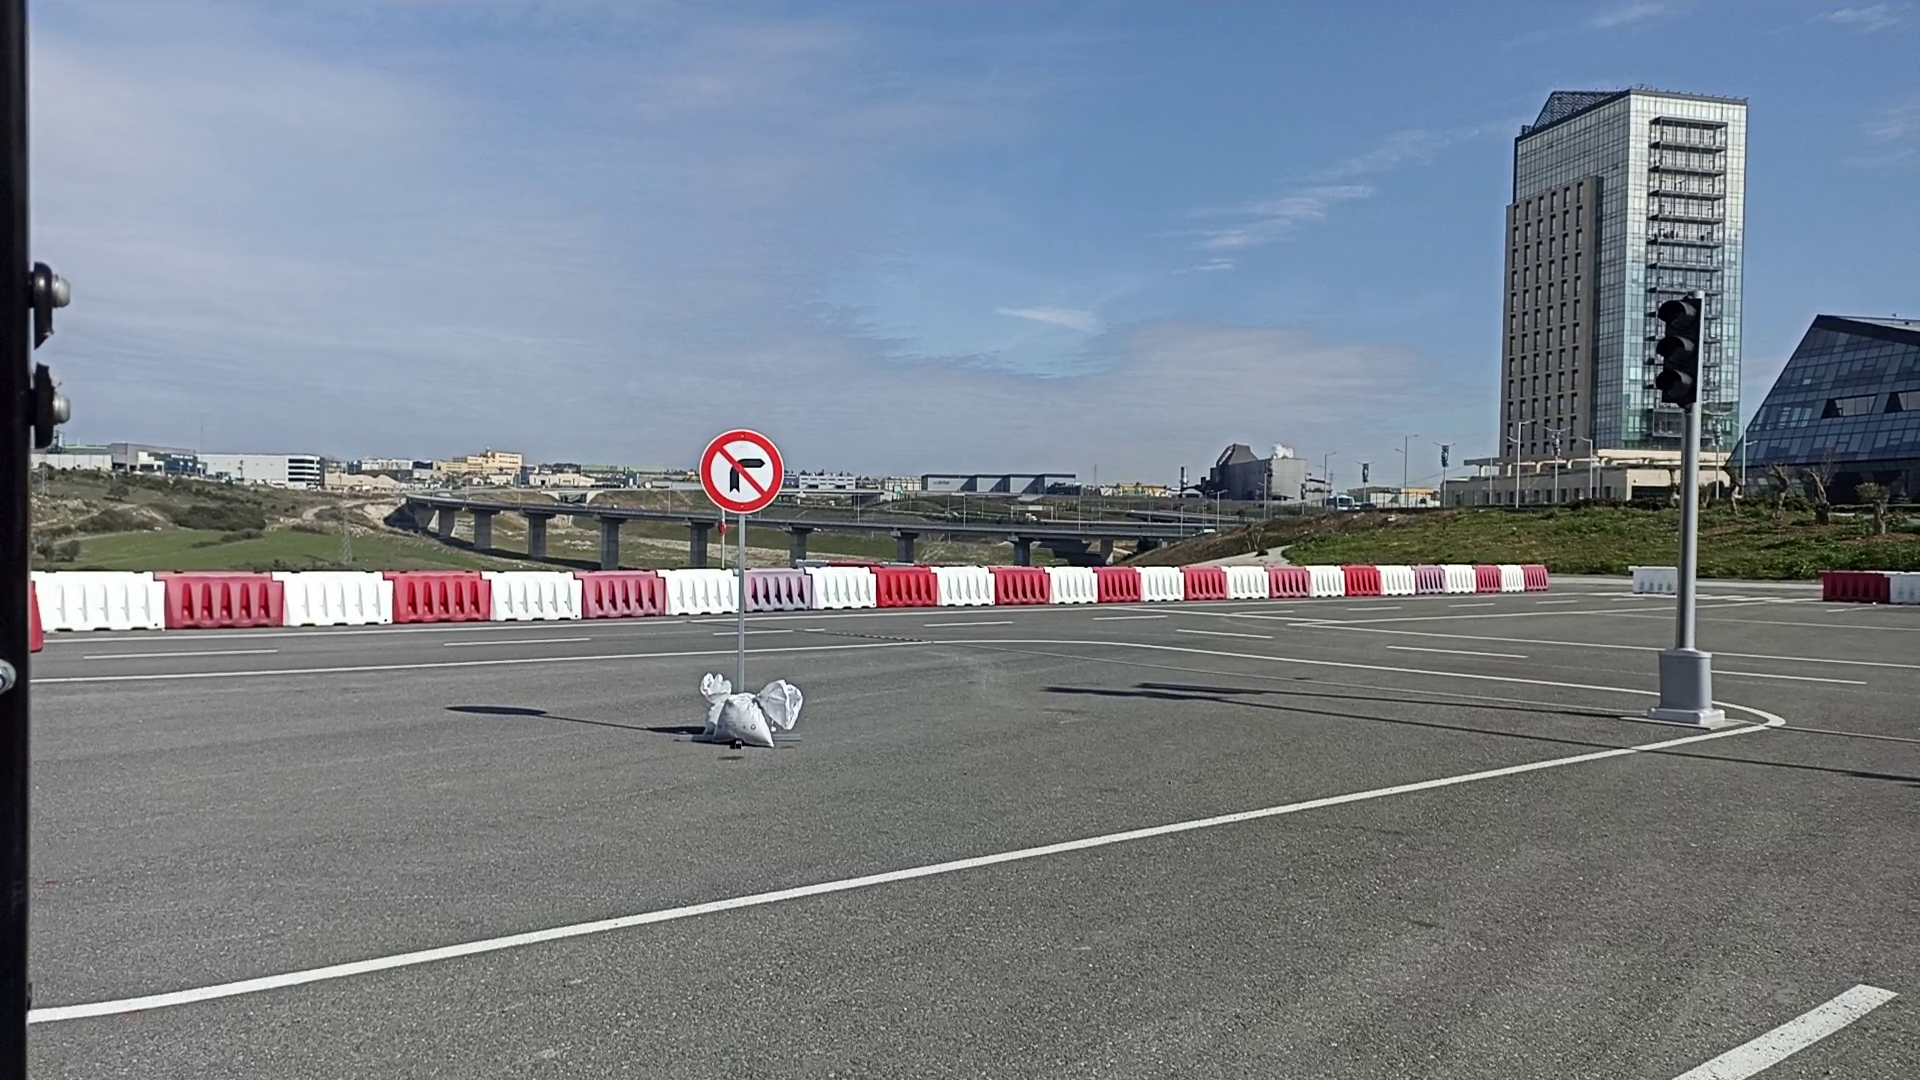noleftturn: (698, 427, 785, 516)
trafficlight: (1650, 289, 1702, 409)
